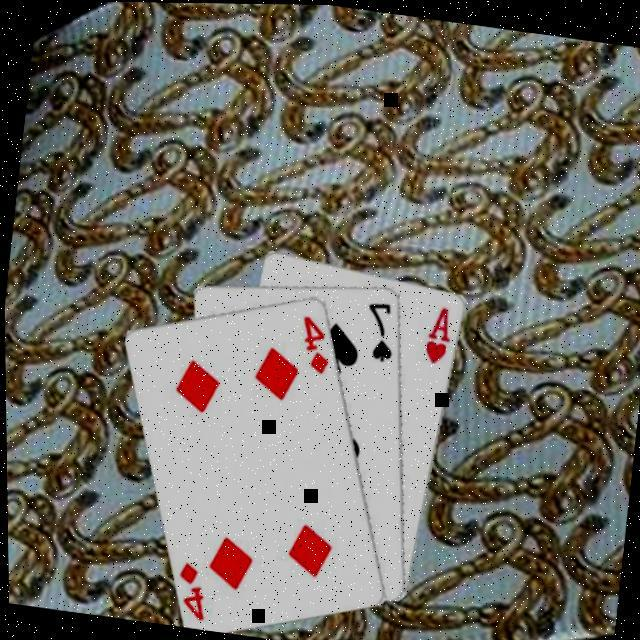4D: (292, 307, 336, 373), (167, 554, 211, 620)
7S: (357, 294, 400, 362)
AH: (418, 299, 455, 364)
